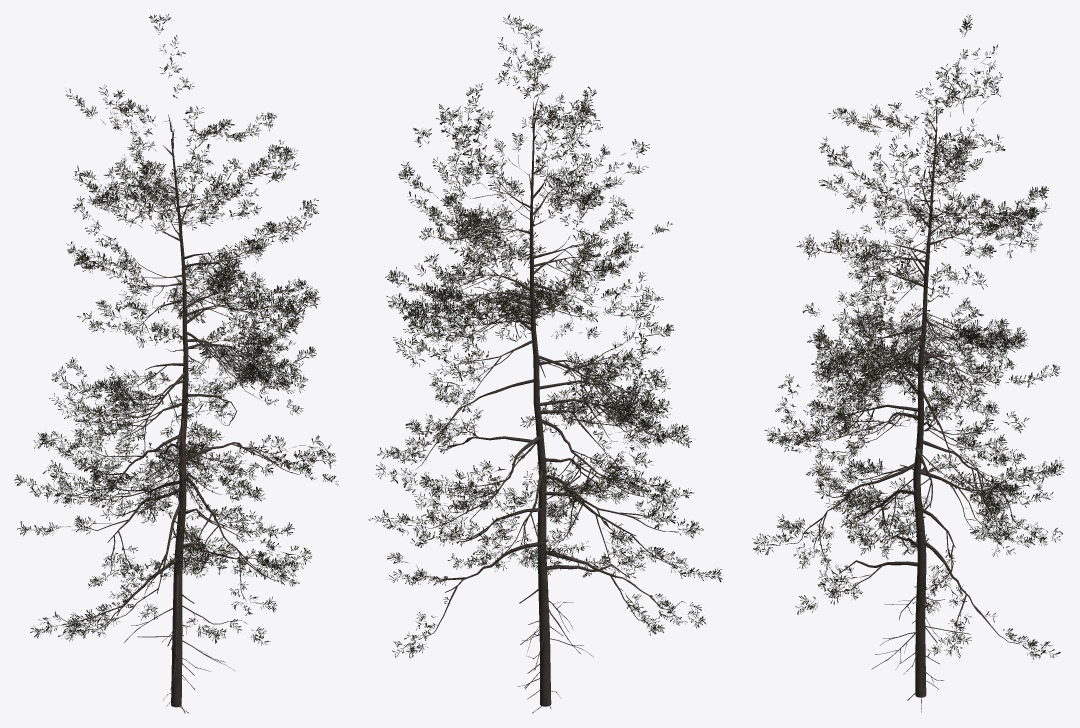
Rendered from pine.gltf.
3 renders of one model, left to right at view 1: azimuth 30°, elevation 25°; view 2: azimuth 150°, elevation 25°; view 3: azimuth 270°, elevation 25°, orthographic. The views are drawn at different scales.
Parts seen in each view (by area): view 1: pine_sapling_medium_a_game, pine_distant; view 2: pine_sapling_medium_a_game, pine_distant; view 3: pine_sapling_medium_a_game, pine_distant.
Boxes of the visible parts, x1,y1,x2,y2 form: pine_sapling_medium_a_game: [14, 14, 338, 713]; pine_distant: [31, 67, 332, 708]; pine_sapling_medium_a_game: [368, 14, 722, 712]; pine_distant: [387, 44, 720, 712]; pine_sapling_medium_a_game: [752, 14, 1064, 712]; pine_distant: [761, 26, 1059, 707].
Size of the model in its own units: 5.16 by 11.49 by 4.71.
Materials: 3 (3 with a texture image).
